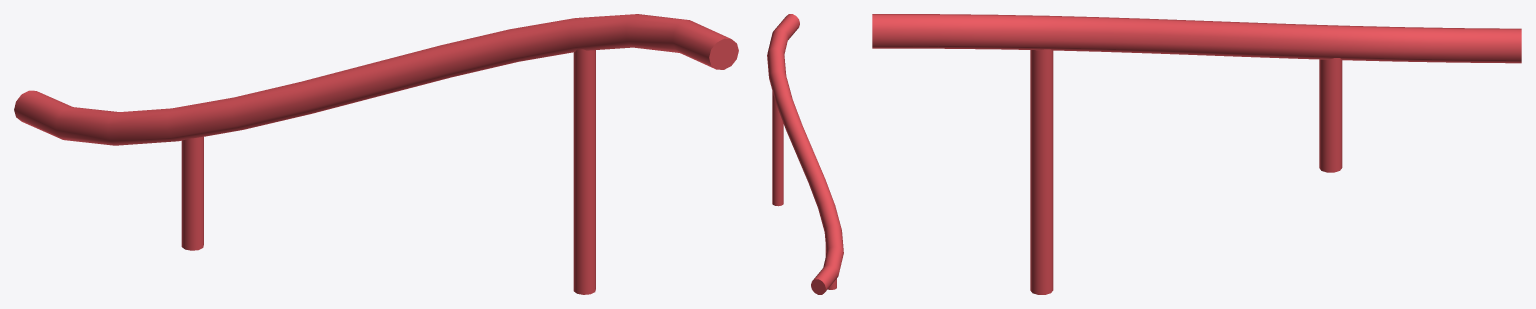
The model's file is rail_right_top_left.glb.
3 renders of one model, left to right at view 1: azimuth 30°, elevation 25°; view 2: azimuth 150°, elevation 25°; view 3: azimuth 270°, elevation 25°, orthographic. The views are drawn at different scales.
Parts seen in each view (by area): view 1: Cylinder.027; view 2: Cylinder.027; view 3: Cylinder.027.
Part boxes in pixels (<box>): Cylinder.027: <box>14,14,738,294</box>; Cylinder.027: <box>767,14,843,294</box>; Cylinder.027: <box>872,14,1521,294</box>.
Size of the model in its own units: 10.8 by 7.67 by 14.96.
